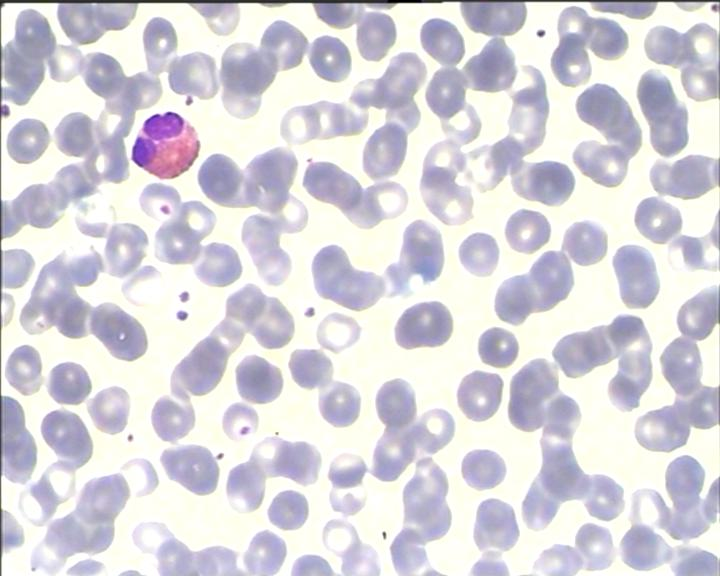eosi: (129, 109, 205, 179)
